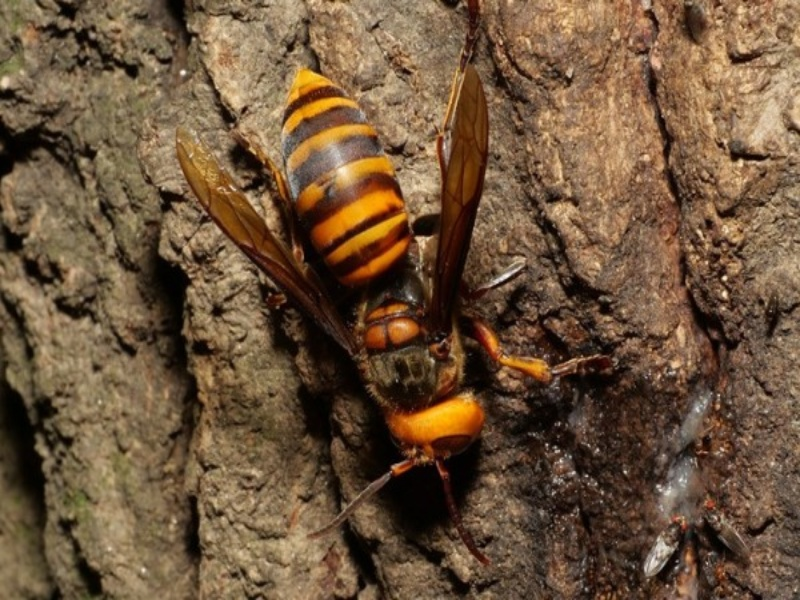asian_giant_hornet: (273, 63, 503, 484)
